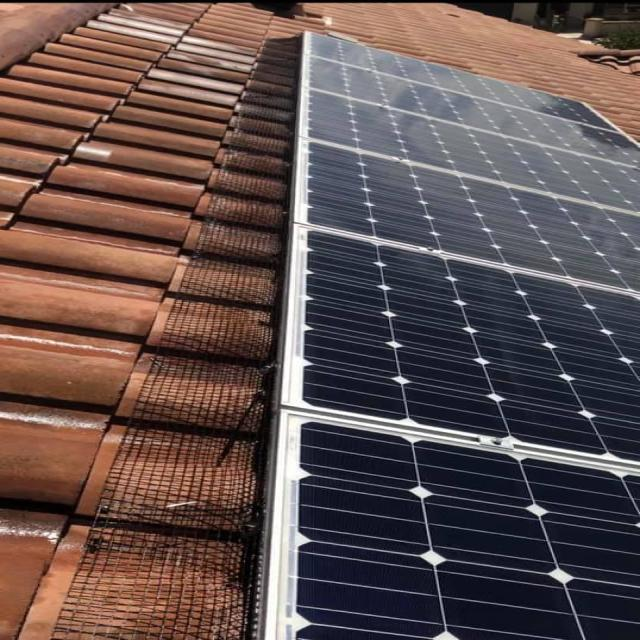clean-solar-panel: (267, 35, 638, 640)
